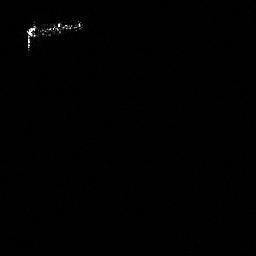ship: (23, 16, 85, 53)
